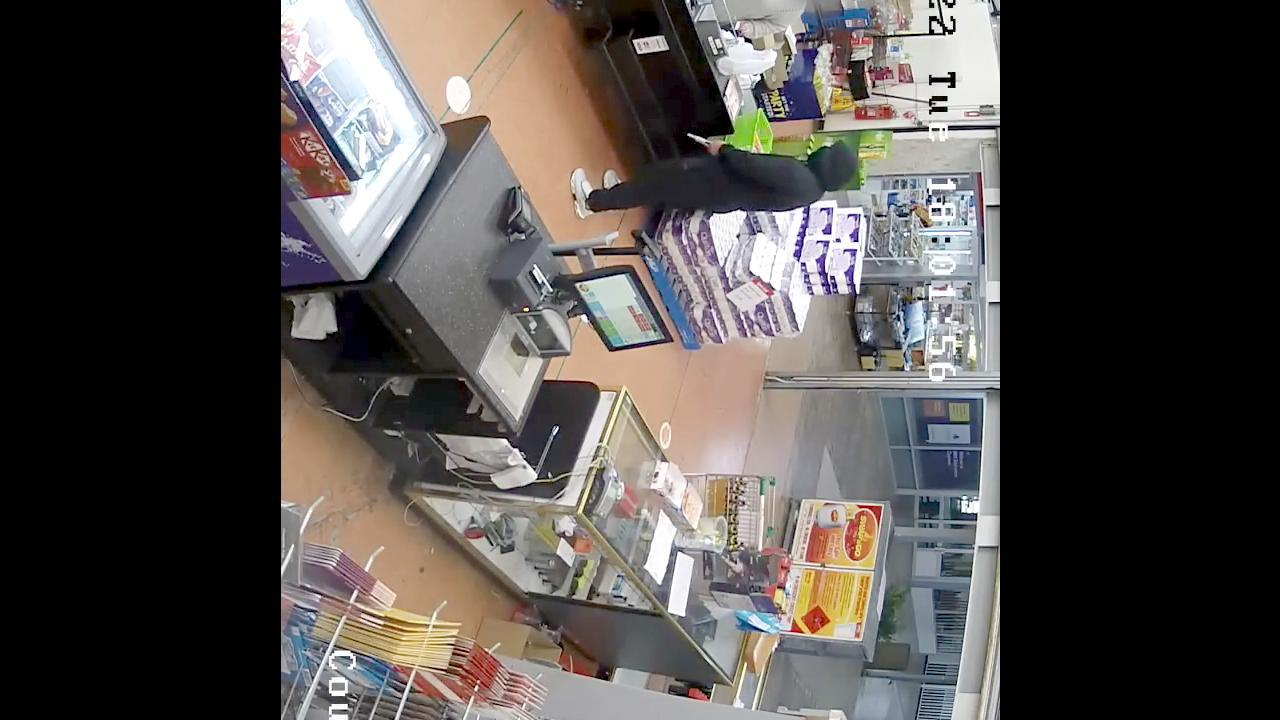gun: (681, 122, 742, 162)
